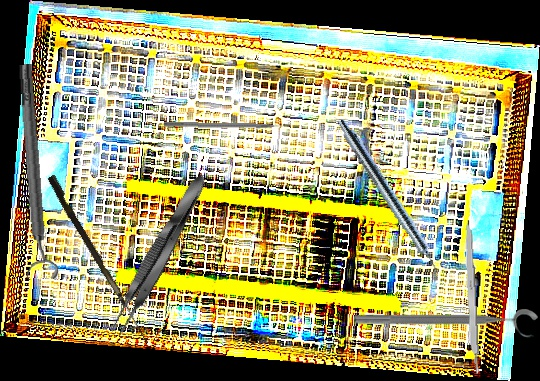Fixation Ring: (9, 63, 60, 280), (354, 309, 538, 339)
Handpiece: (332, 116, 448, 283)
Hook Surgical: (44, 174, 156, 344), (163, 121, 291, 131)
Scalpel Handle: (461, 219, 481, 375)
Tissue Forceps: (104, 168, 215, 341)
